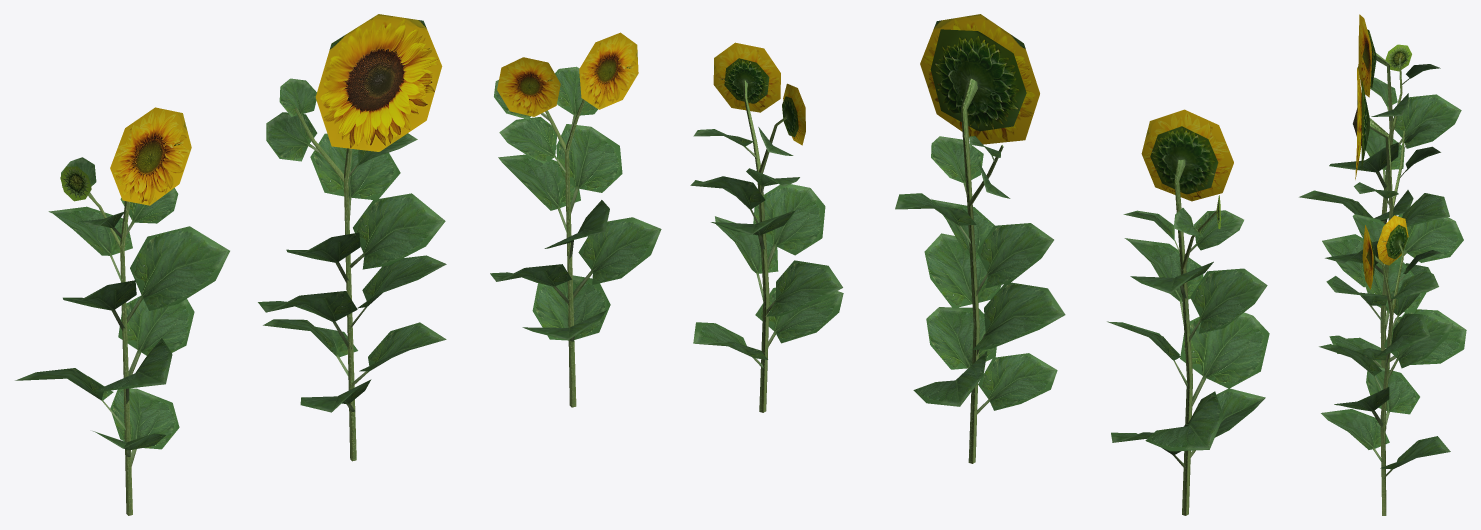
Rendered from sunflower_m.FBX.
The picture shows the model from 3 angles, left to right: view 1: azimuth 30°, elevation 25°; view 2: azimuth 150°, elevation 25°; view 3: azimuth 270°, elevation 25°; orthographic projection. The views are drawn at different scales.
Visible parts, largest first — view 1: sunflower_A, sunflower_B, sunflower_C; view 2: sunflower_A, sunflower_B, sunflower_C; view 3: sunflower_C, sunflower_B, sunflower_A.
Part boxes in pixels (x1,y1,x2,y2): sunflower_A: [258, 14, 446, 461]; sunflower_B: [15, 107, 229, 515]; sunflower_C: [490, 32, 661, 407]; sunflower_A: [895, 14, 1065, 463]; sunflower_B: [1107, 109, 1269, 515]; sunflower_C: [690, 42, 843, 412]; sunflower_C: [1319, 215, 1453, 515]; sunflower_B: [1299, 14, 1463, 340]; sunflower_A: [1325, 66, 1466, 430].
Size of the model in its own units: 177 by 132 by 55.38.
